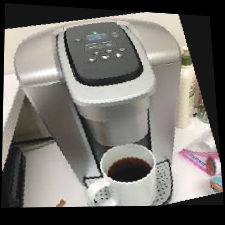10oz: (101, 55, 110, 61)
12oz: (116, 53, 125, 59)
4oz: (92, 50, 101, 55)
6oz: (105, 49, 114, 54)
8oz: (88, 56, 97, 62)
